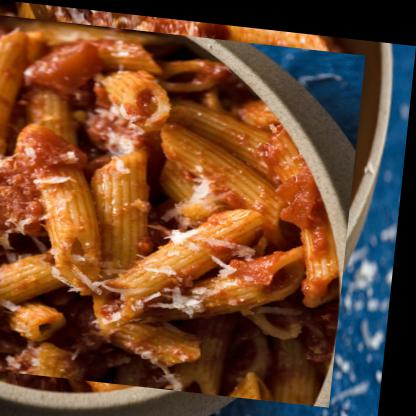pasta: (0, 7, 361, 408)
